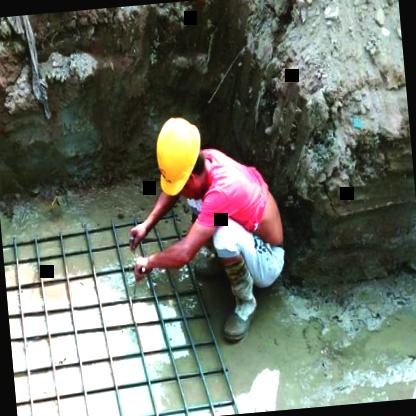helmet: (150, 112, 210, 198)
